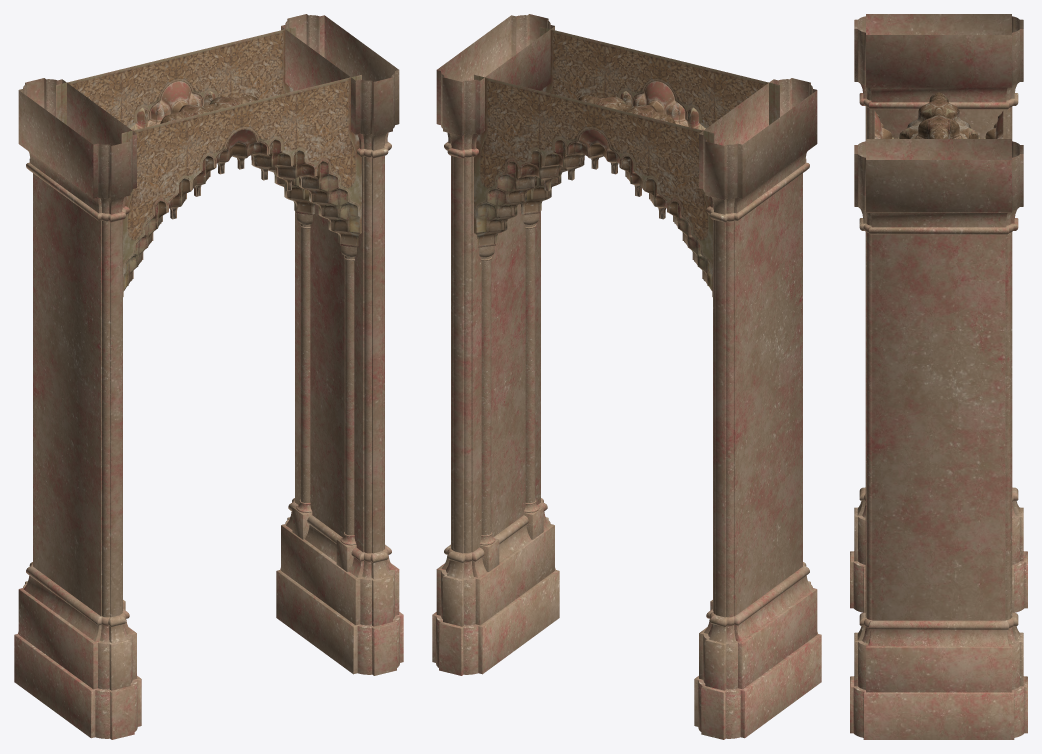
The picture shows the model from 3 angles, left to right: view 1: azimuth 30°, elevation 25°; view 2: azimuth 150°, elevation 25°; view 3: azimuth 270°, elevation 25°; orthographic projection. The views are drawn at different scales.
Parts seen in each view (by area): view 1: Object_3, Object_2; view 2: Object_3, Object_2; view 3: Object_3, Object_2.
Boxes of the visible parts, x1,y1,x2,y2 form: Object_3: (14,14,403,739); Object_2: (56,26,361,296); Object_3: (432,14,821,739); Object_2: (474,26,779,296); Object_3: (850,14,1027,739); Object_2: (874,92,1003,138).
Bounding box in the file's own units: 3335 × 6030 × 1681.
Materials: 2 (2 with a texture image).
